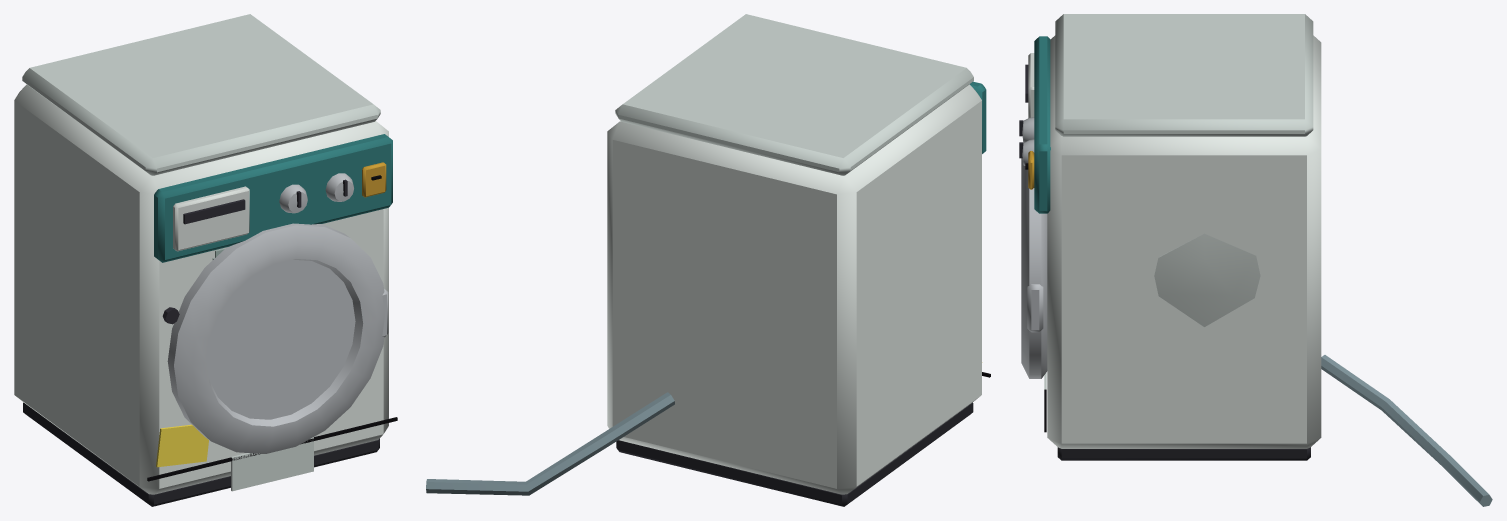
Rendered from washer_block.glb.
3 views of the same model, side by side, from view 1: azimuth 30°, elevation 25°; view 2: azimuth 150°, elevation 25°; view 3: azimuth 270°, elevation 25° (orthographic). The views are drawn at different scales.
Parts seen in each view (by area): view 1: washer; view 2: washer; view 3: washer.
Part boxes in pixels (x1,y1,x2,y2): washer: [14, 14, 397, 506]; washer: [426, 14, 990, 506]; washer: [1019, 14, 1492, 506].
Size of the model in its own units: 1.91 by 1.87 by 2.35.
